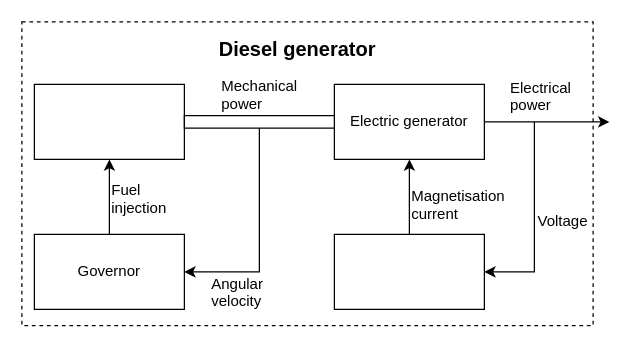
This 641x348 diagram has some shape labels left out. Here are the shapes that lost their labels. From the top down, the centre of each, then its label:
At [108,121]: "Diesel engine".
At [408,271]: "AVR".
